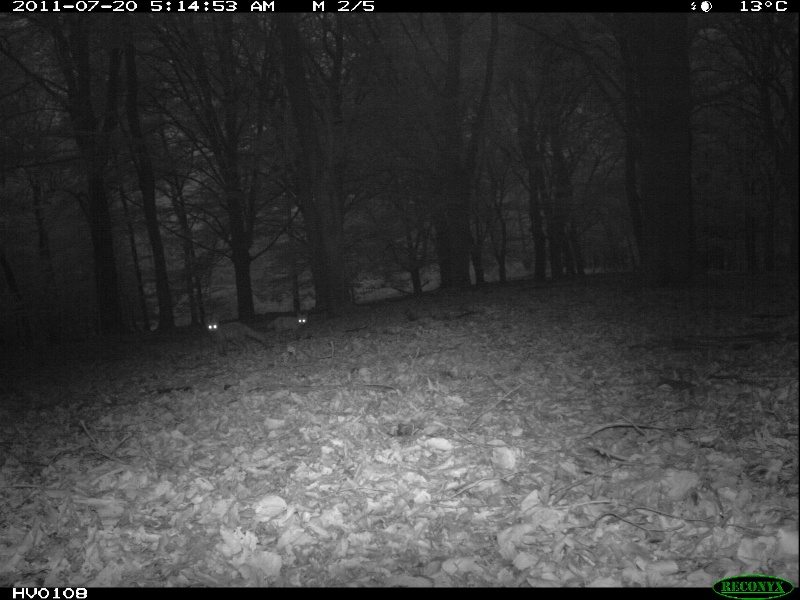fox: (203, 317, 278, 358), (271, 309, 308, 337)
